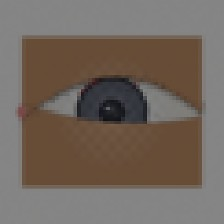hemorrhage_spot: (69, 64, 148, 128)
